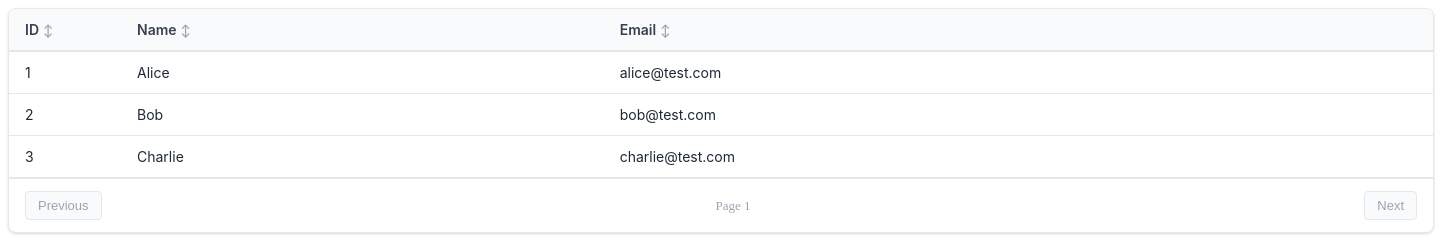
Test case: BifrostTable › sorting interaction › toggles sort on header click
expect the text "Alice" is shown: met, box [121,51,604,94]
Click the column heading "Name" at (157, 30), box [121,9,604,51]
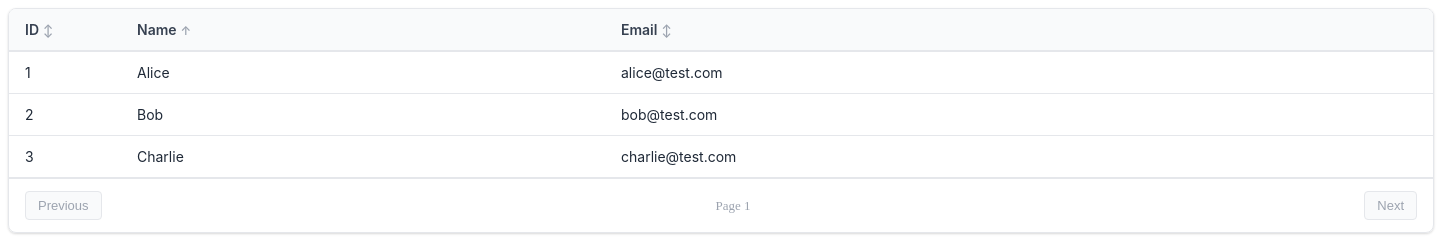
expect the text named "sorted ascending" is shown: met, box [181,23,191,38]
